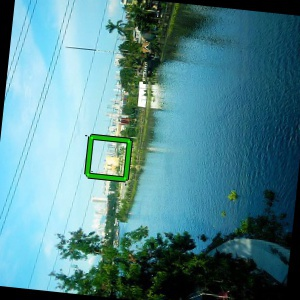square: (83, 132, 133, 184)
